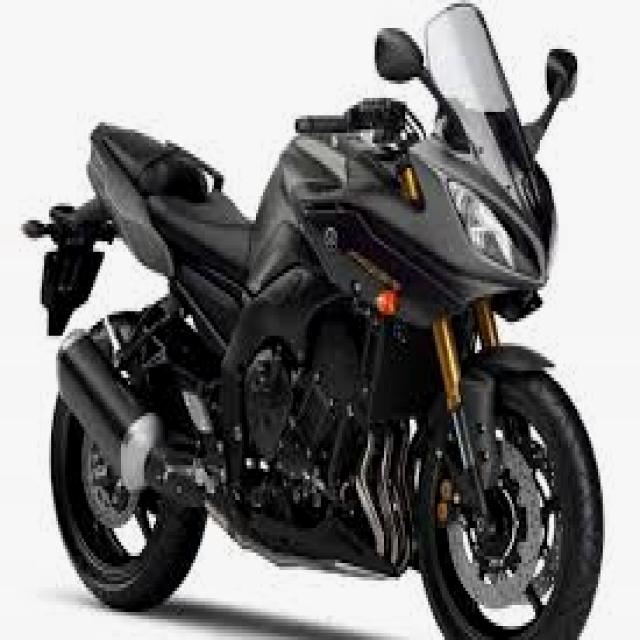MOTORCYCLE: (32, 13, 599, 632)
